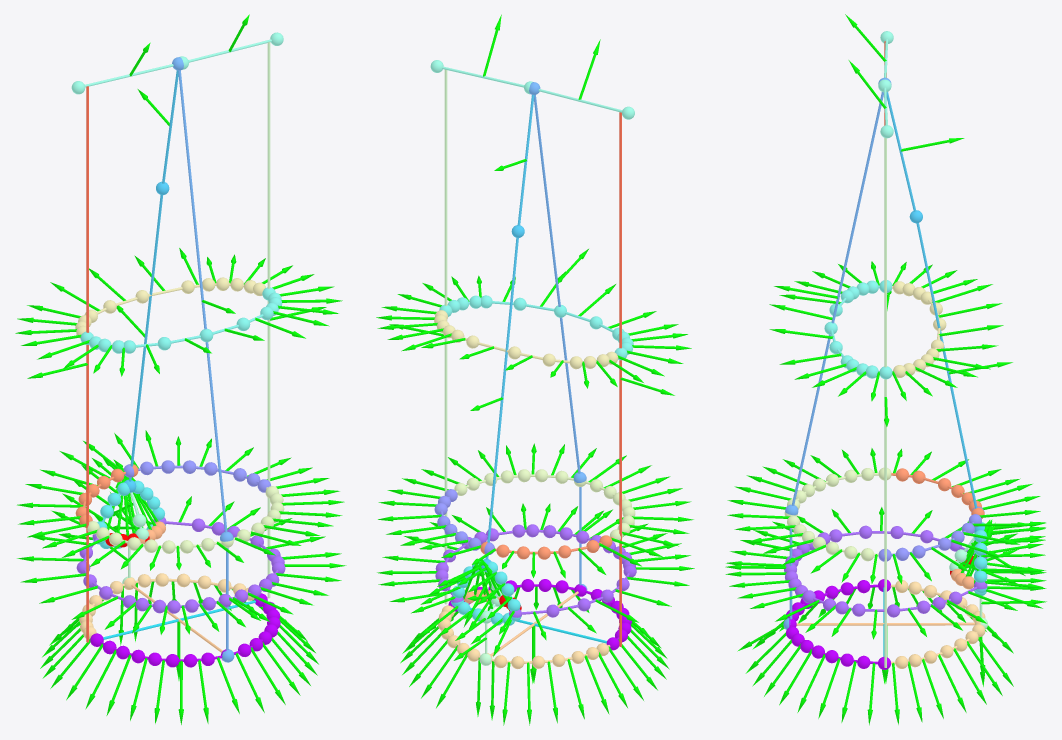
The model's file is t2f_toothpaste.gltf.
3 views of the same model, side by side, from view 1: azimuth 30°, elevation 25°; view 2: azimuth 150°, elevation 25°; view 3: azimuth 270°, elevation 25° (orthographic). The views are drawn at different scales.
Size of the model in its own units: 0.5054 by 1.08 by 0.486.
